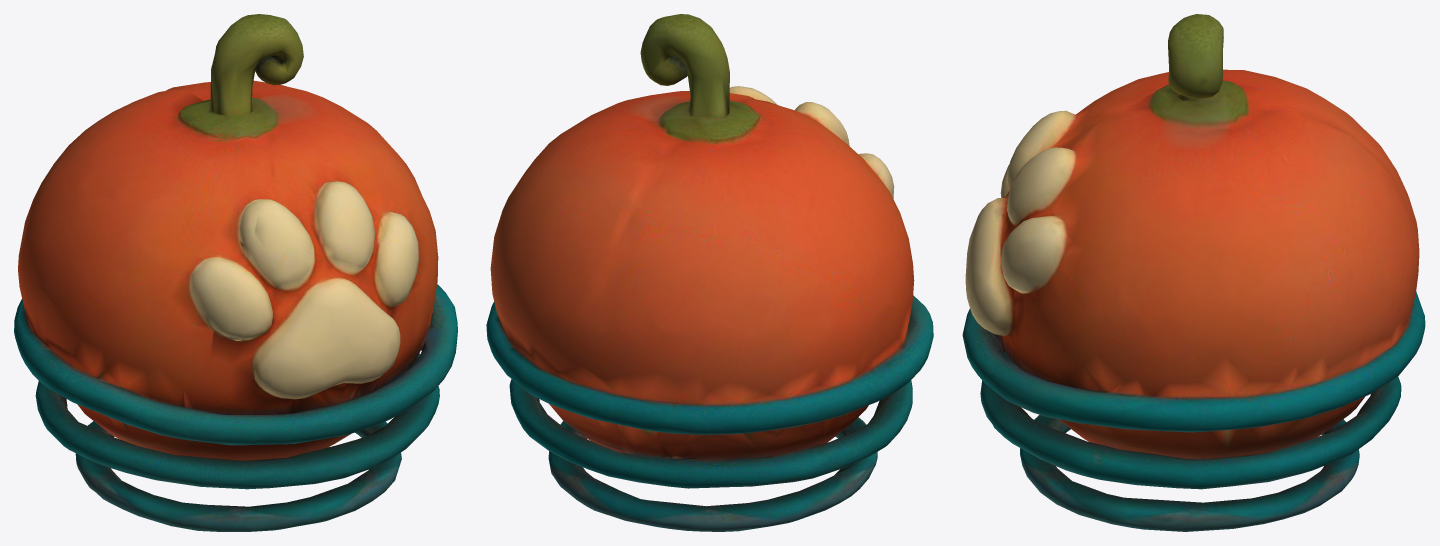
The model's file is item-pushback.glb.
3 renders of one model, left to right at view 1: azimuth 30°, elevation 25°; view 2: azimuth 150°, elevation 25°; view 3: azimuth 270°, elevation 25°, orthographic. The views are drawn at different scales.
Parts seen in each view (by area): view 1: Mesh_0; view 2: Mesh_0; view 3: Mesh_0.
Boxes of the visible parts, x1,y1,x2,y2 form: Mesh_0: [14, 14, 457, 531]; Mesh_0: [486, 14, 933, 531]; Mesh_0: [962, 14, 1425, 531].
Bounding box in the file's own units: 1.84 × 2 × 1.84.
Materials: 1 (1 with a texture image).
